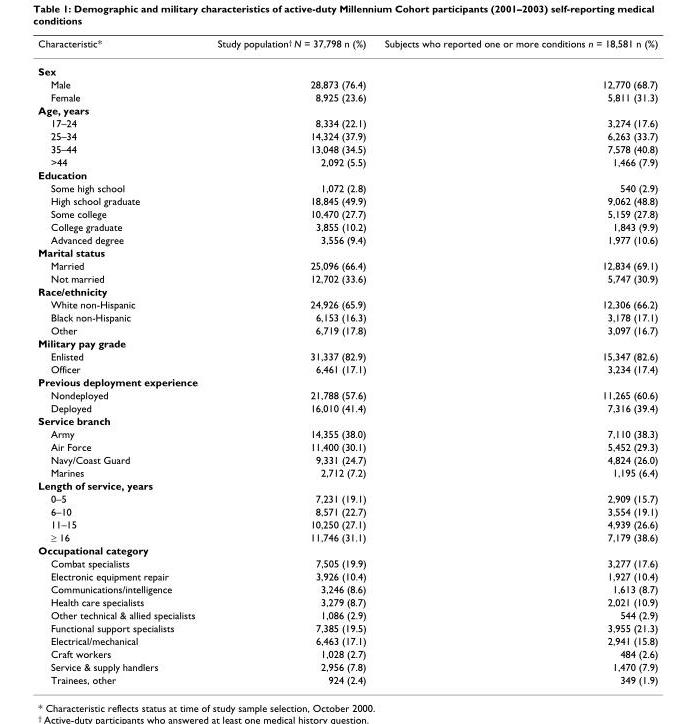table: (37, 37, 657, 685)
table column: (374, 37, 657, 685), (37, 37, 206, 685), (206, 37, 374, 685)
table column header: (37, 37, 657, 56)
table projected row header: (37, 56, 657, 77), (37, 413, 657, 427), (37, 103, 657, 116), (37, 168, 657, 181), (37, 245, 657, 258), (37, 284, 657, 297), (37, 336, 657, 349), (37, 375, 657, 388), (37, 478, 657, 491), (37, 543, 657, 556)
table row: (37, 56, 657, 77), (37, 37, 657, 56), (37, 413, 657, 427), (37, 77, 657, 90), (37, 90, 657, 103), (37, 103, 657, 116), (37, 116, 657, 129), (37, 129, 657, 142), (37, 142, 657, 155), (37, 155, 657, 168), (37, 168, 657, 181), (37, 181, 657, 194), (37, 206, 657, 219), (37, 219, 657, 232), (37, 232, 657, 245), (37, 245, 657, 258), (37, 258, 657, 271), (37, 271, 657, 284), (37, 284, 657, 297), (37, 297, 657, 310), (37, 310, 657, 323), (37, 323, 657, 336), (37, 336, 657, 349), (37, 349, 657, 362), (37, 362, 657, 375), (37, 375, 657, 388), (37, 388, 657, 401), (37, 439, 657, 452), (37, 452, 657, 465), (37, 465, 657, 478), (37, 478, 657, 491), (37, 491, 657, 504), (37, 504, 657, 517), (37, 517, 657, 530), (37, 530, 657, 543), (37, 543, 657, 556), (37, 556, 657, 569), (37, 569, 657, 582), (37, 582, 657, 595), (37, 595, 657, 608), (37, 608, 657, 621), (37, 621, 657, 634), (37, 634, 657, 647), (37, 659, 657, 672), (37, 672, 657, 685), (37, 194, 657, 206), (37, 401, 657, 413), (37, 427, 657, 439), (37, 647, 657, 659)
